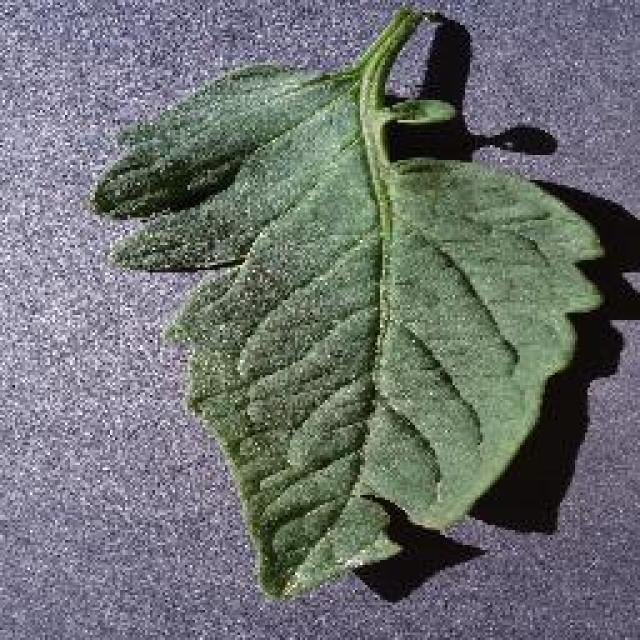Tomato___healthy: (84, 0, 607, 601)
